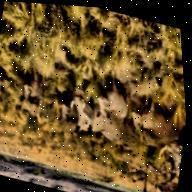boar: (59, 97, 151, 154), (124, 94, 180, 147), (87, 80, 130, 131), (13, 67, 53, 121), (157, 126, 188, 185), (50, 97, 76, 128)
